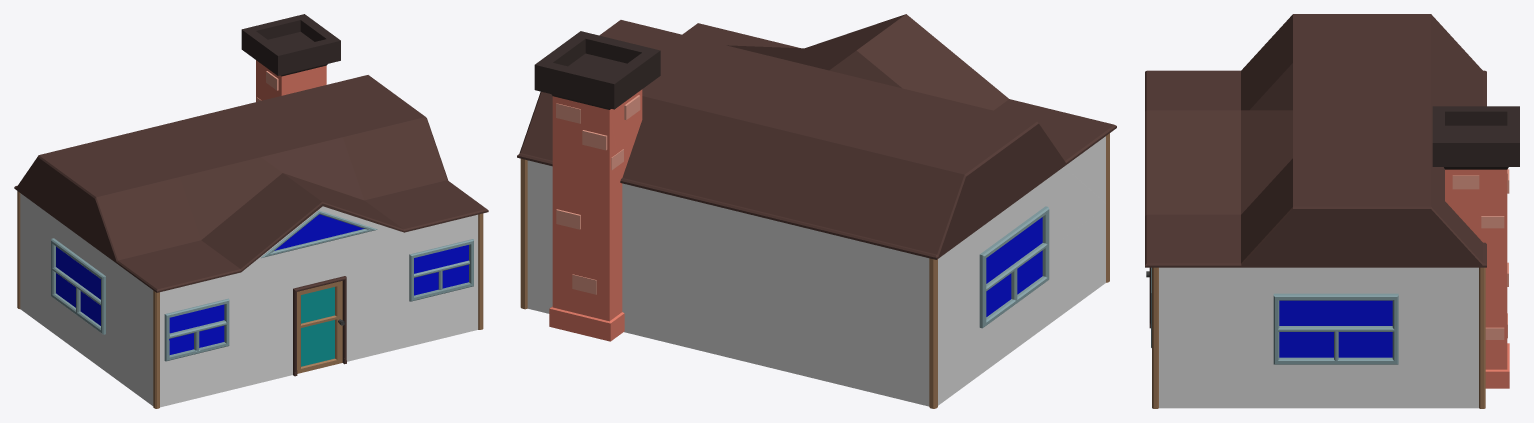
Rendered from House2.fbx.
3 views of the same model, side by side, from view 1: azimuth 30°, elevation 25°; view 2: azimuth 150°, elevation 25°; view 3: azimuth 270°, elevation 25° (orthographic). The views are drawn at different scales.
Parts seen in each view (by area): view 1: House2; view 2: House2; view 3: House2.
Part boxes in pixels (left/top/right/bottom): House2: left=14, top=14, right=488, bottom=408; House2: left=517, top=14, right=1116, bottom=408; House2: left=1145, top=14, right=1519, bottom=408.
Size of the model in its own units: 1066 by 640 by 867.
